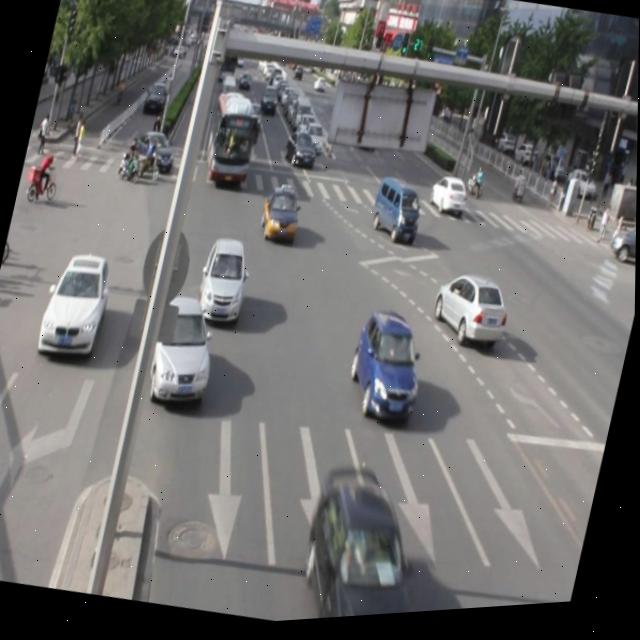car: (291, 463, 438, 624), (342, 309, 434, 432), (141, 290, 227, 411), (36, 245, 118, 363), (428, 271, 516, 356), (192, 235, 256, 331), (256, 184, 307, 251)
truck: (368, 177, 428, 251)
